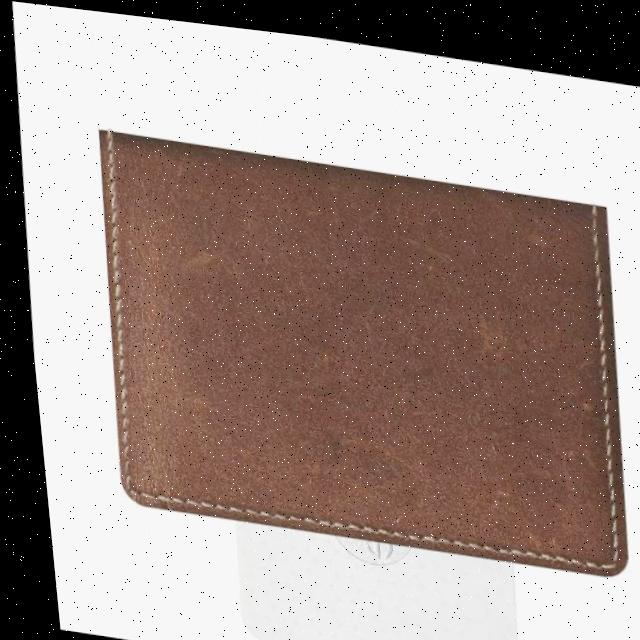cuzdan: (69, 108, 640, 579)
